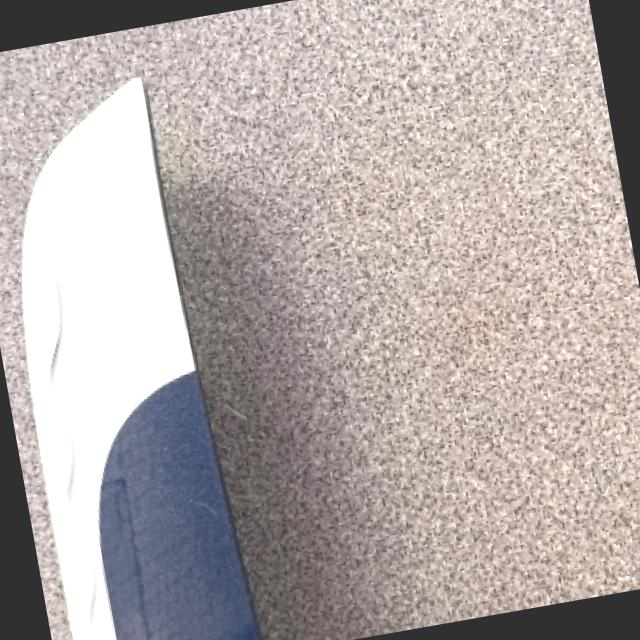healthy: (26, 76, 259, 640)
